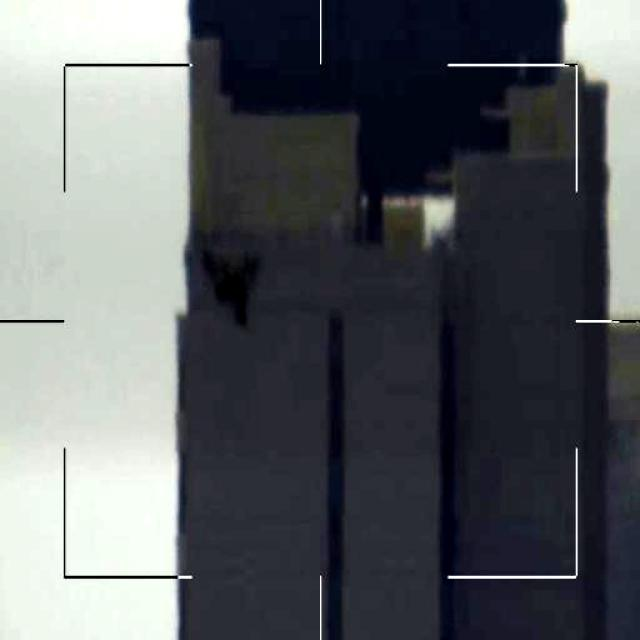bird: (202, 242, 269, 330)
